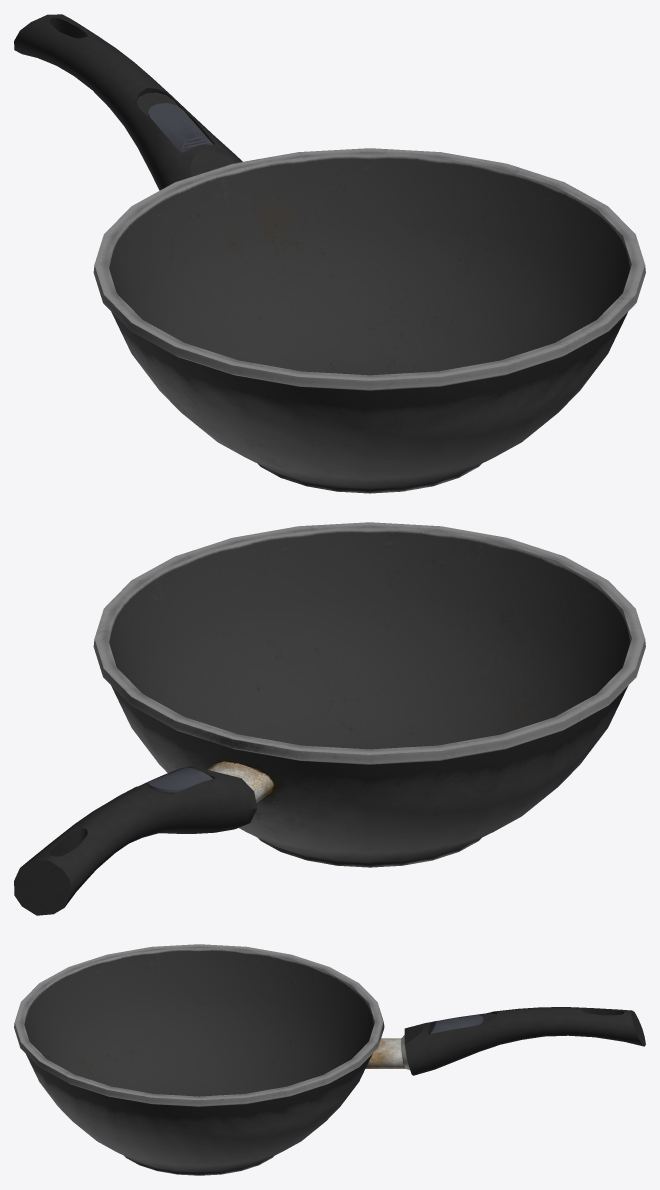
The picture shows the model from 3 angles, top to bottom: view 1: azimuth 30°, elevation 25°; view 2: azimuth 150°, elevation 25°; view 3: azimuth 270°, elevation 25°; orthographic projection. The views are drawn at different scales.
Visible parts, largest first — view 1: Wok.001, Handle.001, Button.001; view 2: Wok.001, Handle.001, Steel.001, Button.001; view 3: Wok.001, Handle.001, Steel.001, Button.001.
Boxes of the visible parts, left/top/right/bottom form: Wok.001: left=93, top=148, right=645, bottom=493; Handle.001: left=14, top=14, right=242, bottom=190; Button.001: left=147, top=103, right=212, bottom=152; Wok.001: left=93, top=522, right=645, bottom=867; Handle.001: left=14, top=766, right=257, bottom=915; Steel.001: left=207, top=761, right=274, bottom=802; Button.001: left=147, top=767, right=212, bottom=792; Wok.001: left=14, top=944, right=384, bottom=1175; Handle.001: left=404, top=1007, right=645, bottom=1075; Steel.001: left=365, top=1035, right=409, bottom=1069; Button.001: left=429, top=1015, right=483, bottom=1033.
Bounding box in the file's own units: 307 × 120 × 524.
Materials: 1 (1 with a texture image).
